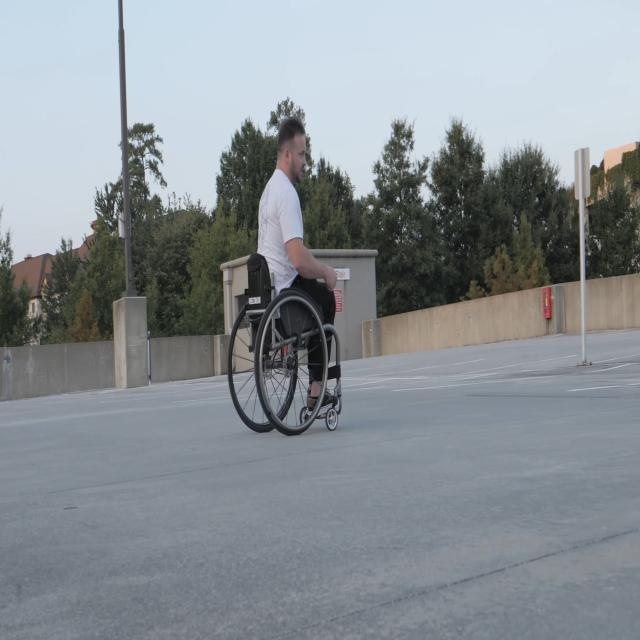wheelchairs: (228, 256, 343, 437)
